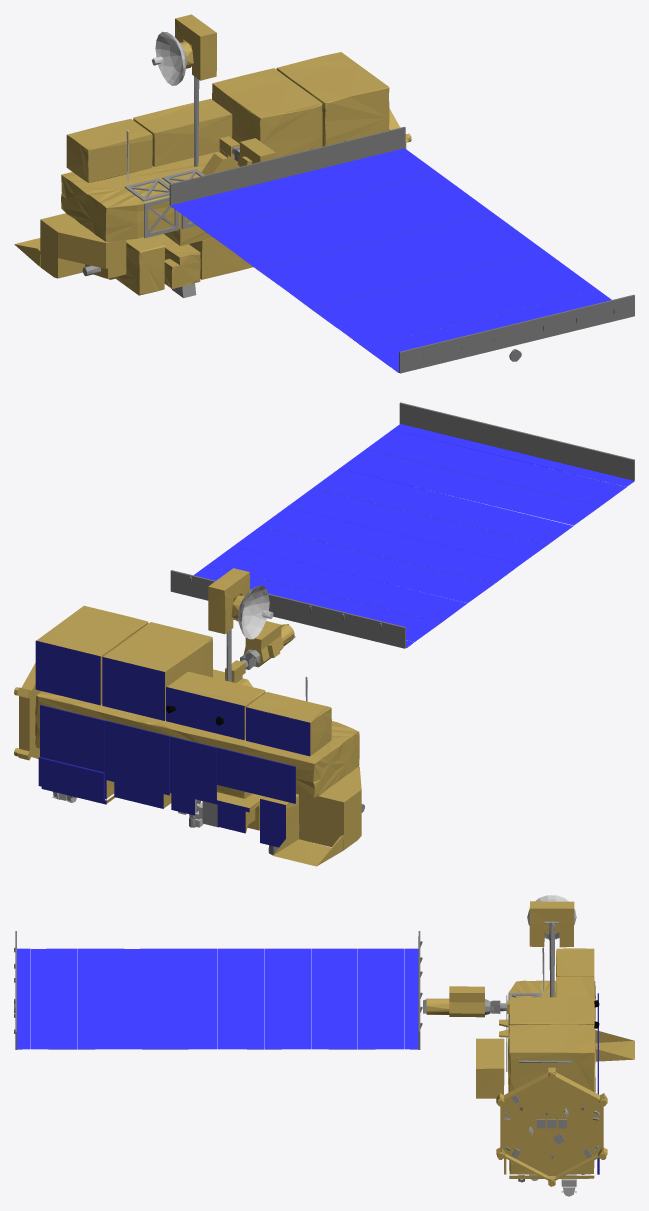
The model's file is terra.glb.
3 renders of one model, top to bottom at view 1: azimuth 30°, elevation 25°; view 2: azimuth 150°, elevation 25°; view 3: azimuth 270°, elevation 25°, orthographic. The views are drawn at different scales.
Parts seen in each view (by area): view 1: Terra_vFINAL [Layer1], Terra_vFINAL [Layer17]; view 2: Terra_vFINAL [Layer1], Terra_vFINAL [Layer17]; view 3: Terra_vFINAL [Layer17], Terra_vFINAL [Layer1].
Boxes of the visible parts, x1,y1,x2,y2 form: Terra_vFINAL [Layer1]: (14, 14, 634, 373); Terra_vFINAL [Layer17]: (170, 148, 611, 372); Terra_vFINAL [Layer1]: (14, 402, 634, 866); Terra_vFINAL [Layer17]: (194, 424, 634, 647); Terra_vFINAL [Layer17]: (17, 948, 418, 1049); Terra_vFINAL [Layer1]: (14, 895, 634, 1196).
Bounding box in the file's own units: 13623 × 10270 × 26052.
2 materials, 2 textured.
